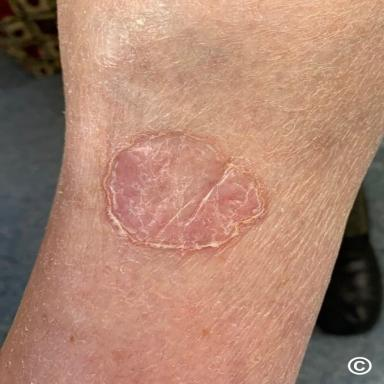Porokeratosis: (103, 128, 267, 252)
